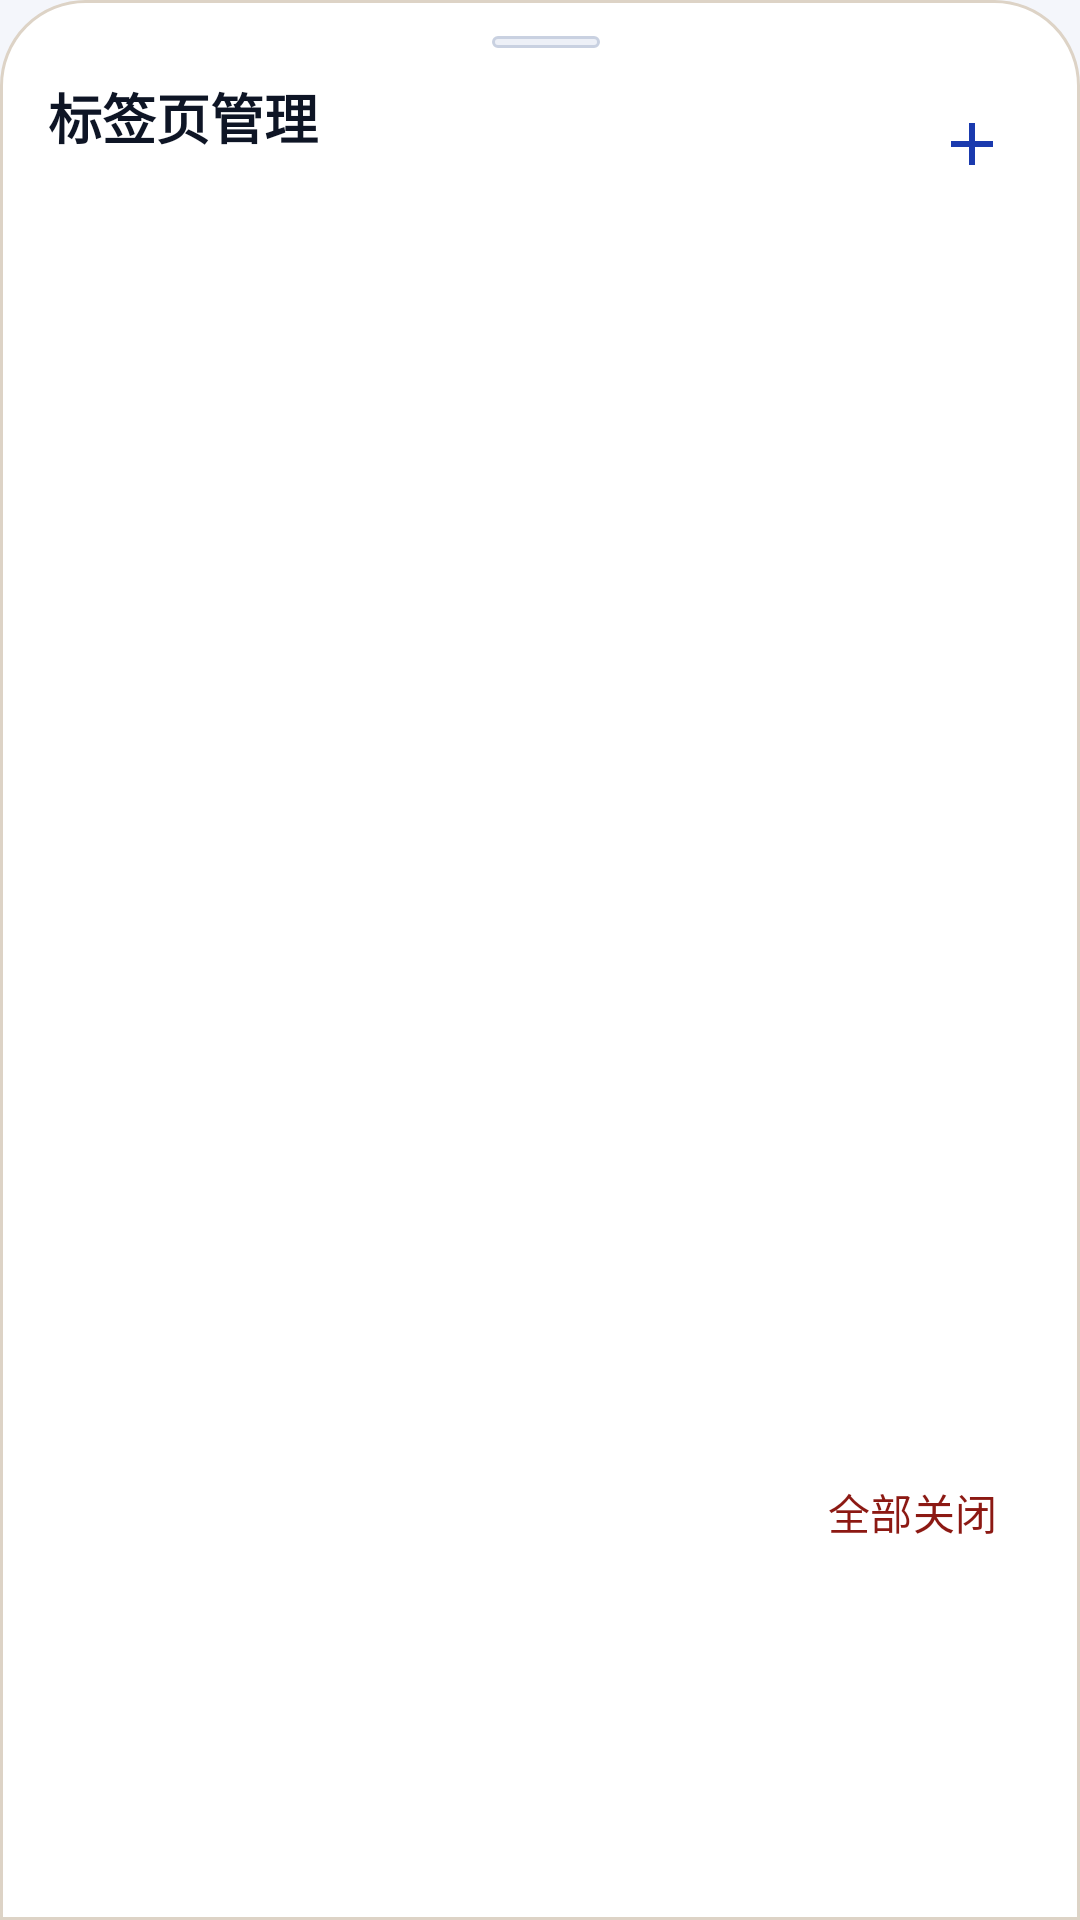

Screen size 1080w x 1920h. Icon name, then its center in pixels as (x=x, y=y):
新标签: (x=972, y=144)
